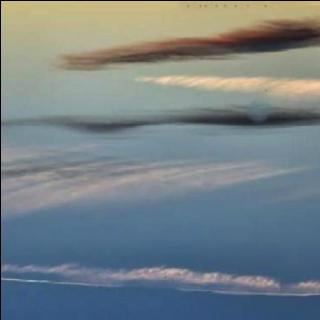Nimbostratus: (0, 17, 320, 302)
